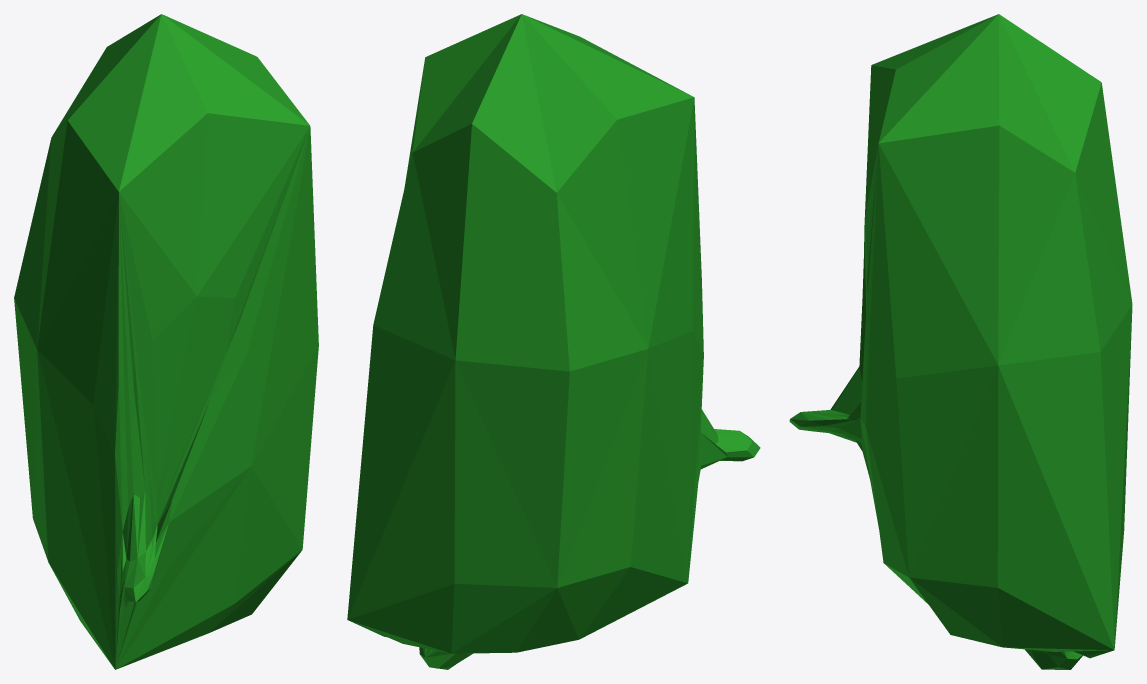
3 views of the same model, side by side, from view 1: azimuth 30°, elevation 25°; view 2: azimuth 150°, elevation 25°; view 3: azimuth 270°, elevation 25° (orthographic).
Parts seen in each view (by area): view 1: 049_Cube.199; view 2: 049_Cube.199; view 3: 049_Cube.199.
Boxes of the visible parts, x1,y1,x2,y2 form: 049_Cube.199: (14,14,318,669); 049_Cube.199: (347,14,760,669); 049_Cube.199: (789,14,1132,669).
Bounding box in the file's own units: 5.57 × 12.94 × 6.34.
